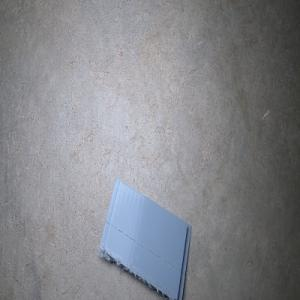PlasticPart: (97, 176, 191, 300)
